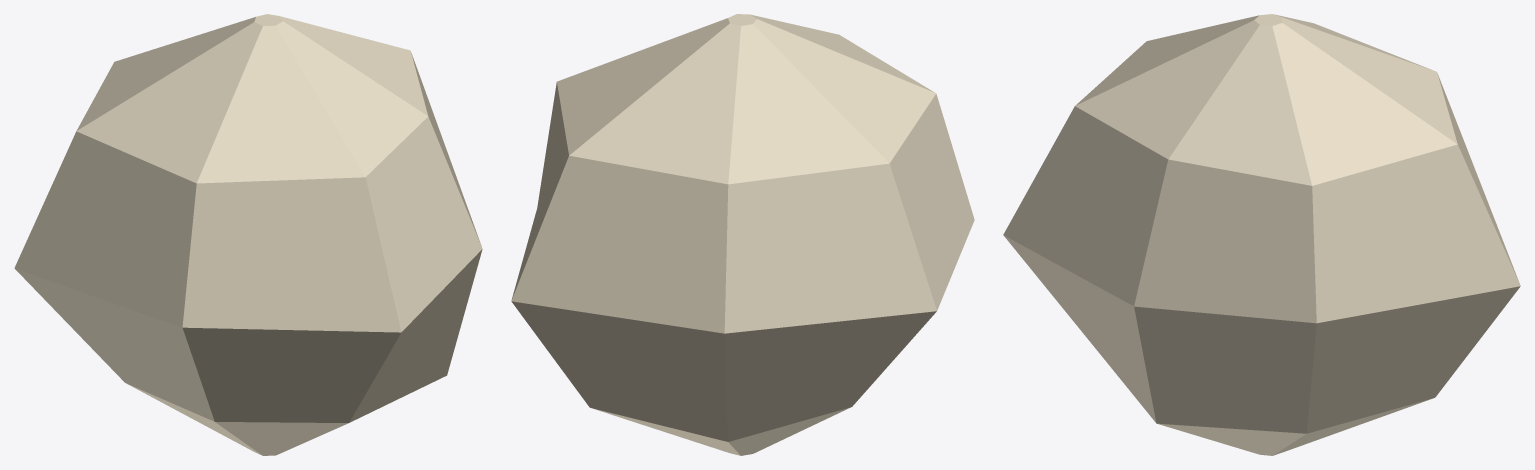
File: steam.glb
3 renders of one model, left to right at view 1: azimuth 30°, elevation 25°; view 2: azimuth 150°, elevation 25°; view 3: azimuth 270°, elevation 25°, orthographic.
Visible parts, largest first — view 1: Puff_Steam; view 2: Puff_Steam; view 3: Puff_Steam.
Boxes of the visible parts, x1,y1,x2,y2 form: Puff_Steam: [14, 14, 482, 455]; Puff_Steam: [511, 14, 974, 455]; Puff_Steam: [1003, 14, 1520, 455].
Bounding box in the file's own units: 1.58 × 1.6 × 1.75.
